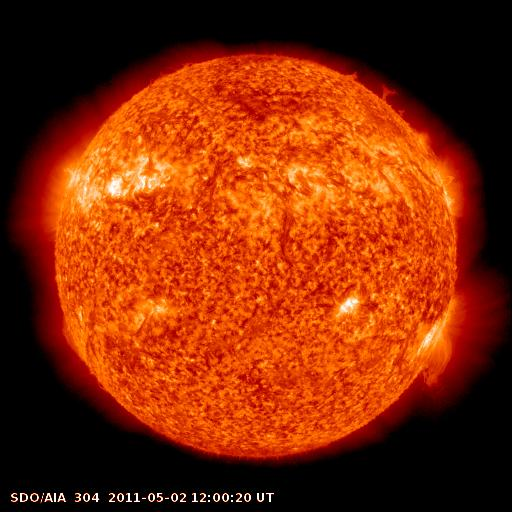prominence: (417, 326, 455, 393), (51, 316, 88, 363), (378, 75, 409, 122)
